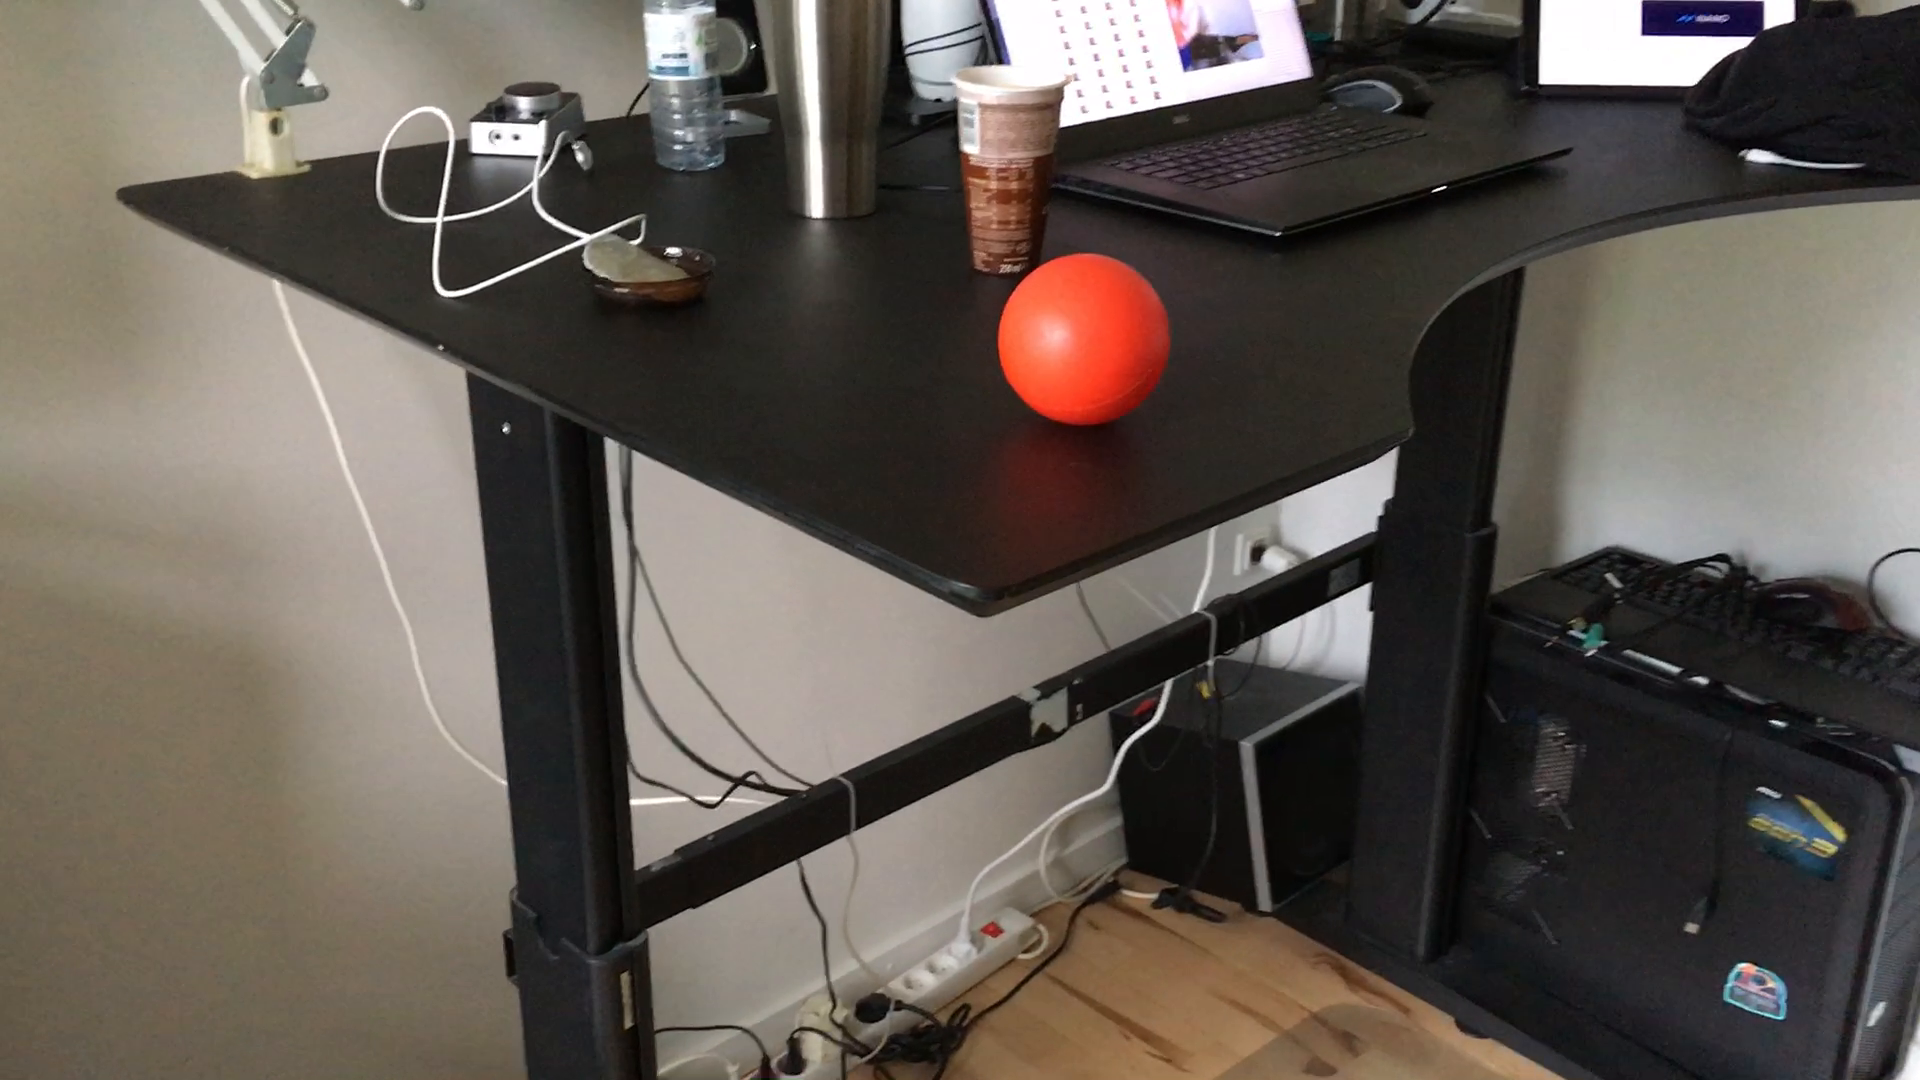Ball: (1000, 251, 1174, 423)
